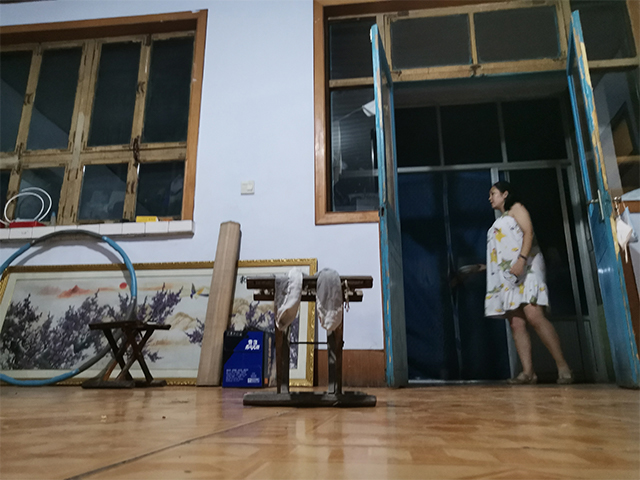stool: (240, 267, 377, 409), (79, 317, 174, 391)
